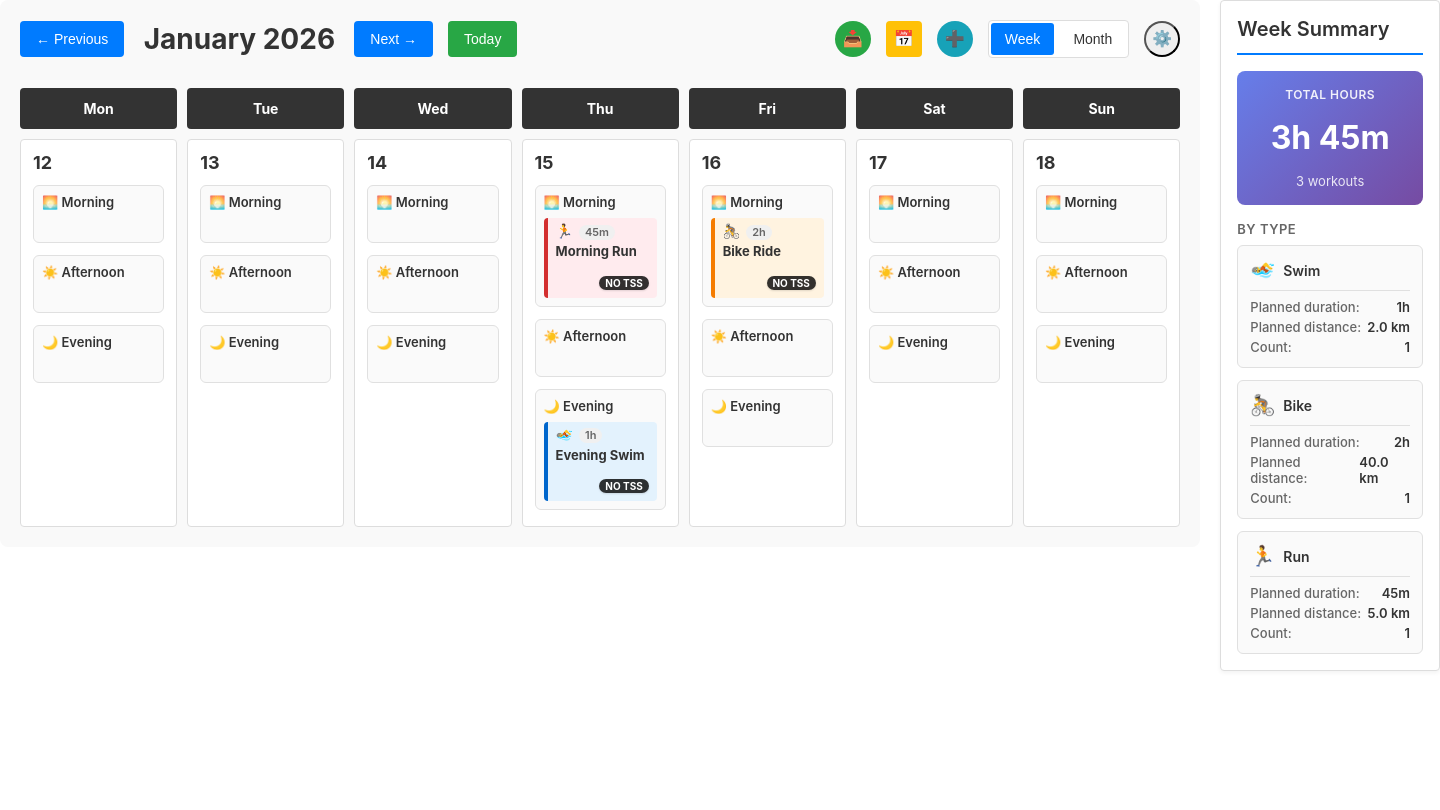
Scenario: Calendar Component › should display workouts correctly in month view
Expected: the text "Morning Run" is shown, [556,243,637,259]
Switch to month view
What coordinates should you click on to do the following:
click the button "Month"
I would click on:
 (1093, 39)
Its box is [1059,23,1126,55].
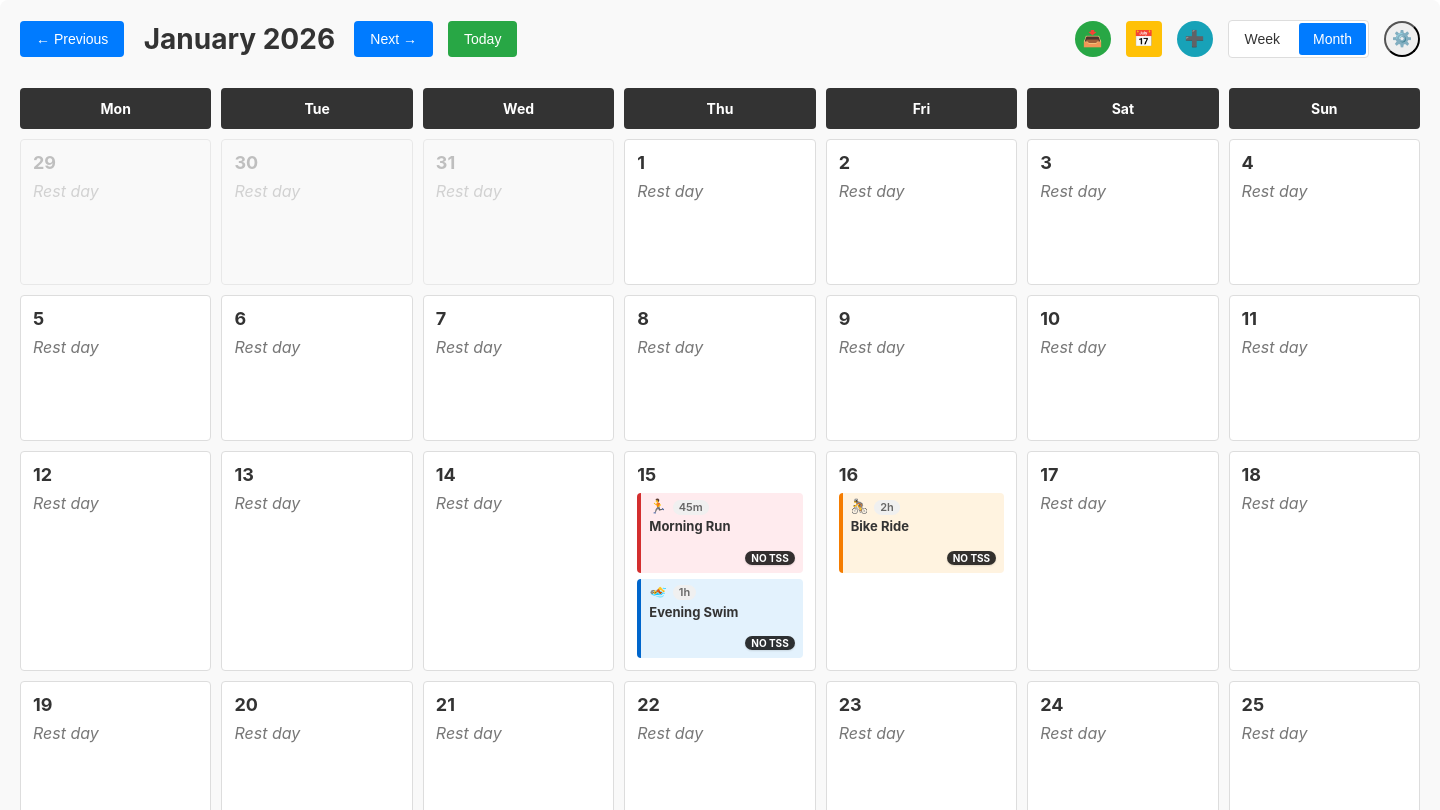
Expected: the text "Evening Swim" is shown, [649,604,738,620]
Expected: the 1st text "Rest day" is shown, [33,181,99,201]
Expected: the element with class "has-date" shows "Morning Run", [649,518,730,534]
